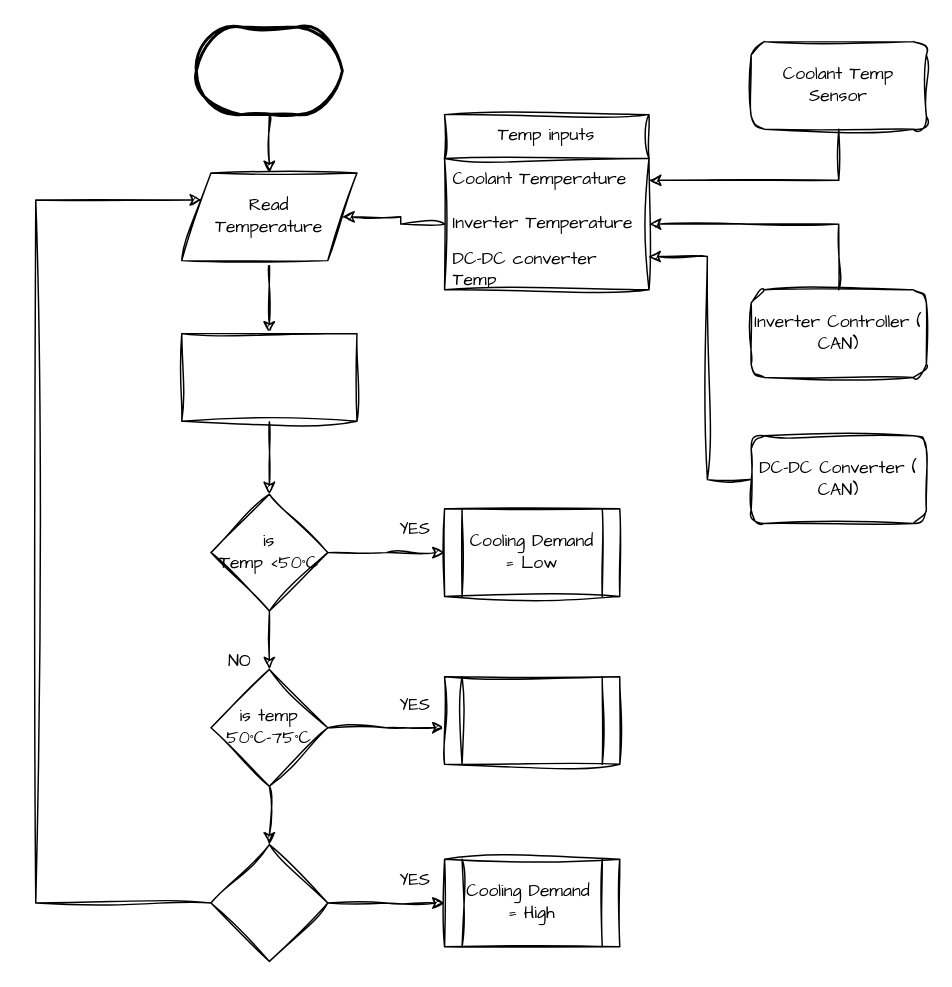
Some shapes in this 952 by 987 pixel diagram are drawn without their labels. The shapes that lost their labels are listed below. From the top down, each one's centre as x and y in pixels, then its label:
At point 268,70: "Start".
At point 268,376: "Find highest temperature".
At point 531,719: "Cooling Demand = Medium".
At point 269,902: "is temp >75°C".
